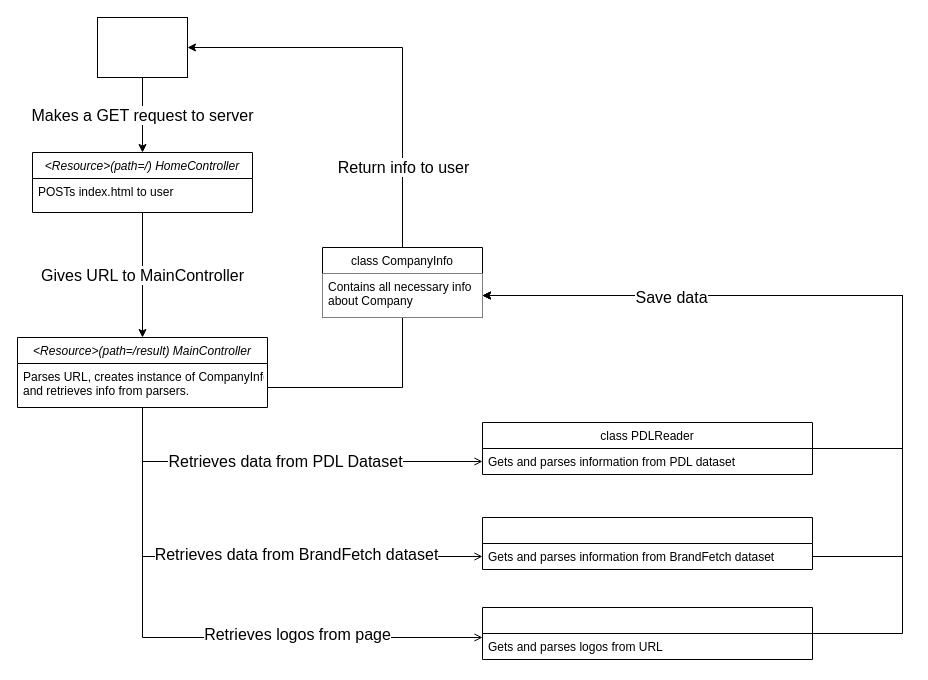
Image size: 928x680. Some labels were removed from this diagram. The shapes that lost their labels are listed below. From the top down, each one's box as (x1, y1, x2, y2) in pixels, then its label:
(96, 16, 188, 78): User
(482, 516, 812, 570): class BrandReader
(482, 606, 812, 660): class LogoGetter
